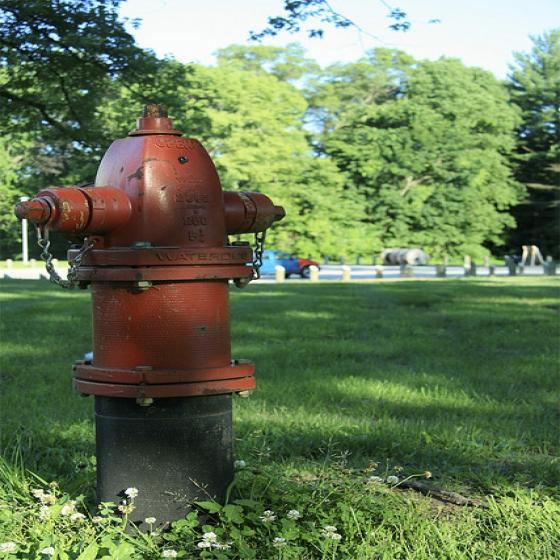car: (260, 250, 322, 278)
fire hydrant: (19, 101, 287, 535)
